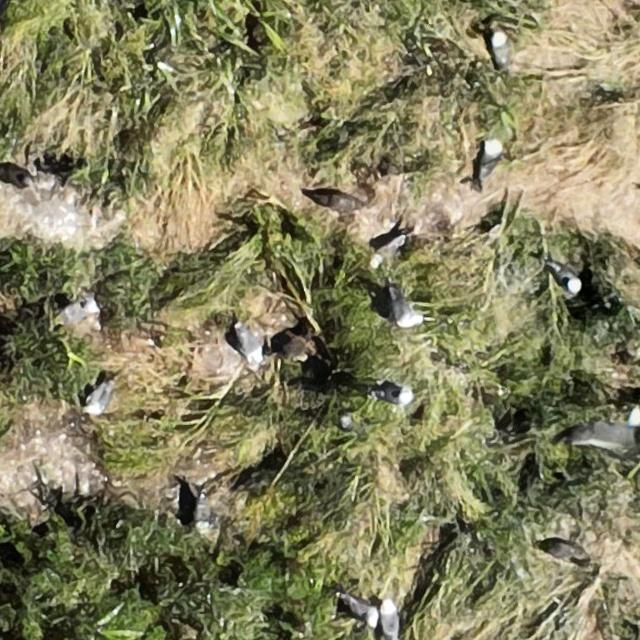umineko: (235, 318, 262, 364), (346, 597, 378, 626), (552, 264, 579, 294), (376, 387, 414, 407), (373, 236, 403, 261), (394, 302, 424, 326), (197, 491, 212, 539), (61, 300, 93, 322), (380, 603, 398, 638), (88, 386, 110, 414), (492, 32, 510, 66), (481, 140, 500, 168)
